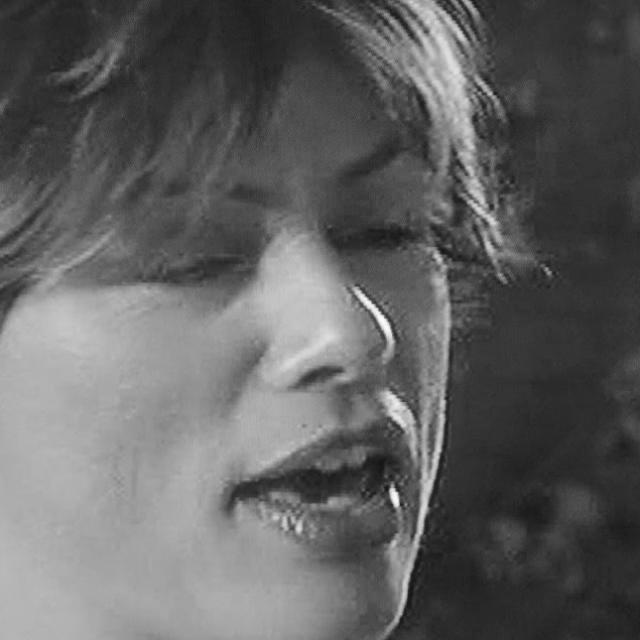real: (2, 0, 452, 640), (116, 203, 447, 307)
